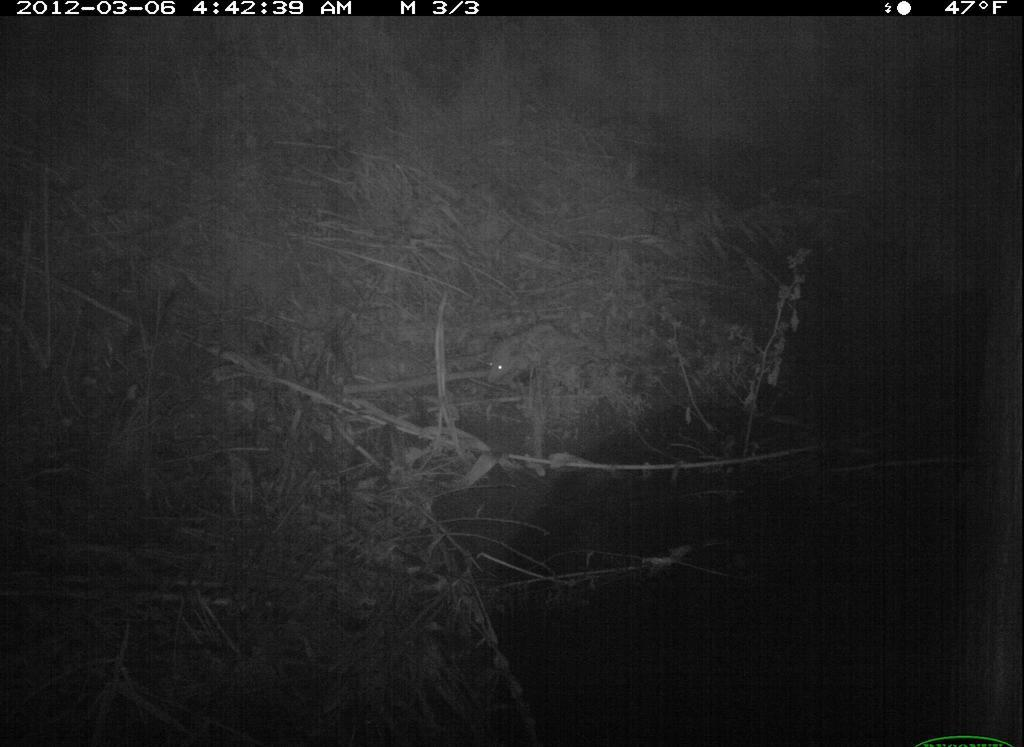opossum: (465, 312, 626, 404)
